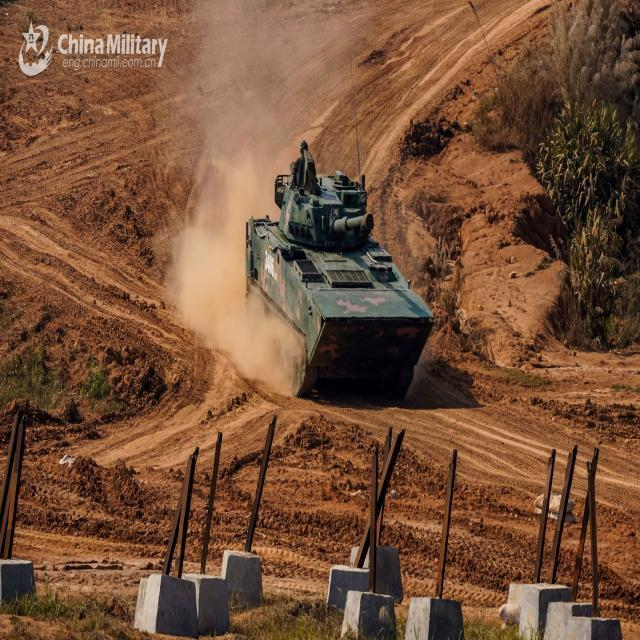Tanks: (244, 141, 434, 405)
